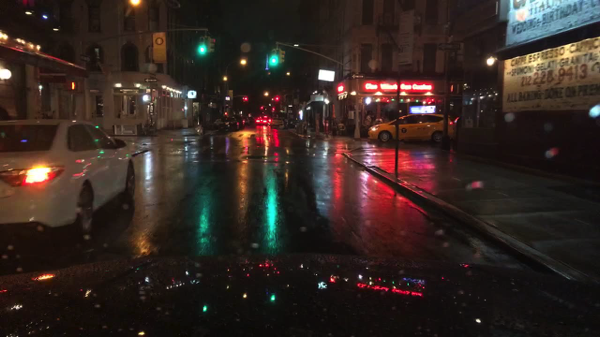car: (0, 115, 134, 237), (366, 111, 459, 145), (212, 114, 237, 132), (232, 113, 243, 129), (268, 118, 284, 126), (144, 78, 159, 83), (255, 118, 267, 124), (242, 117, 250, 124)
person: (364, 114, 374, 133), (374, 117, 382, 126)
traffic light: (207, 36, 218, 55), (448, 83, 461, 96), (197, 37, 204, 57), (68, 81, 78, 90), (271, 51, 277, 64), (281, 50, 286, 64), (274, 94, 280, 103), (242, 96, 249, 102)
traffic sign: (150, 31, 166, 65), (437, 43, 461, 50), (351, 73, 366, 80), (78, 54, 91, 62)
